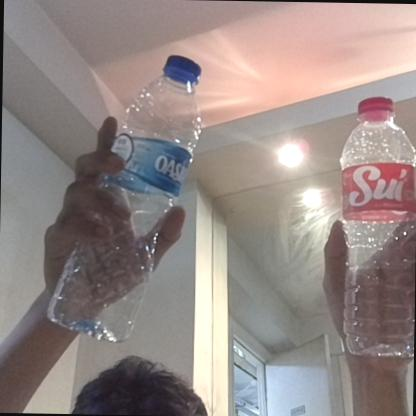plastic_bottles: (50, 47, 200, 342), (337, 99, 416, 364)
